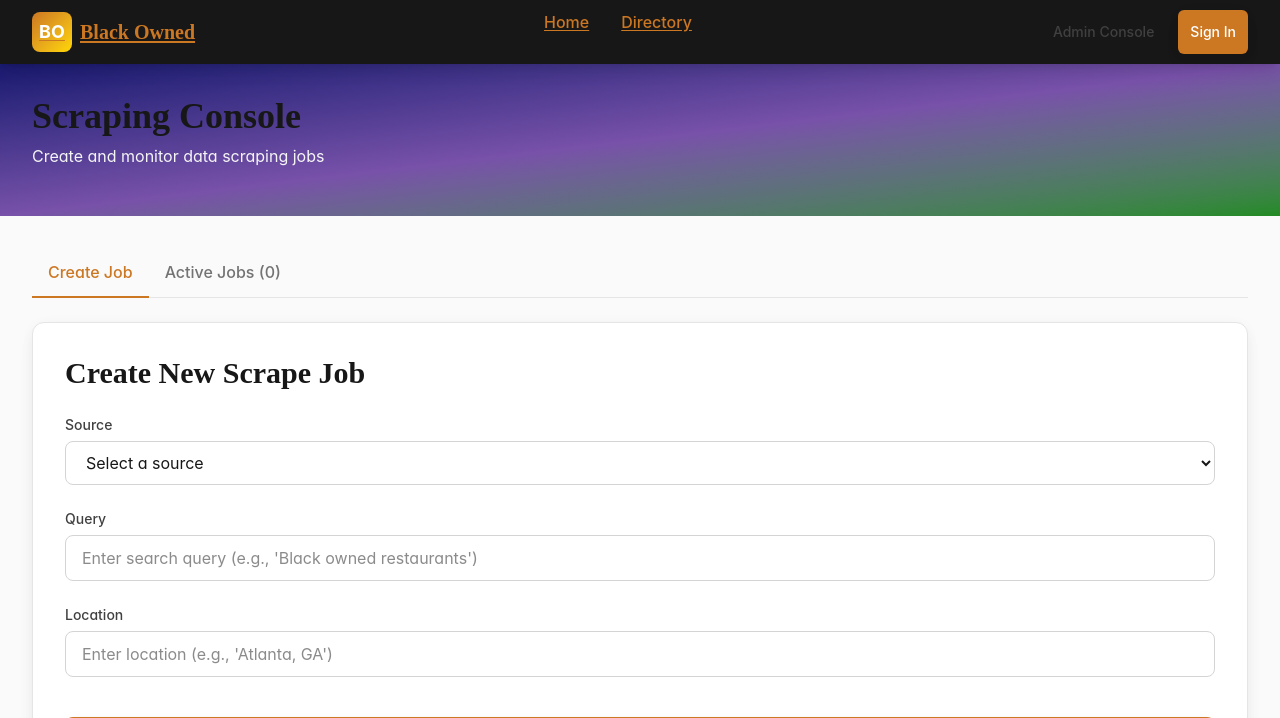
Test: ScrapeJobPage › shows location validation error when location is empty
Select "Google Maps" in the dropdown at {"x": 640, "y": 463}, box [65, 441, 1215, 485]
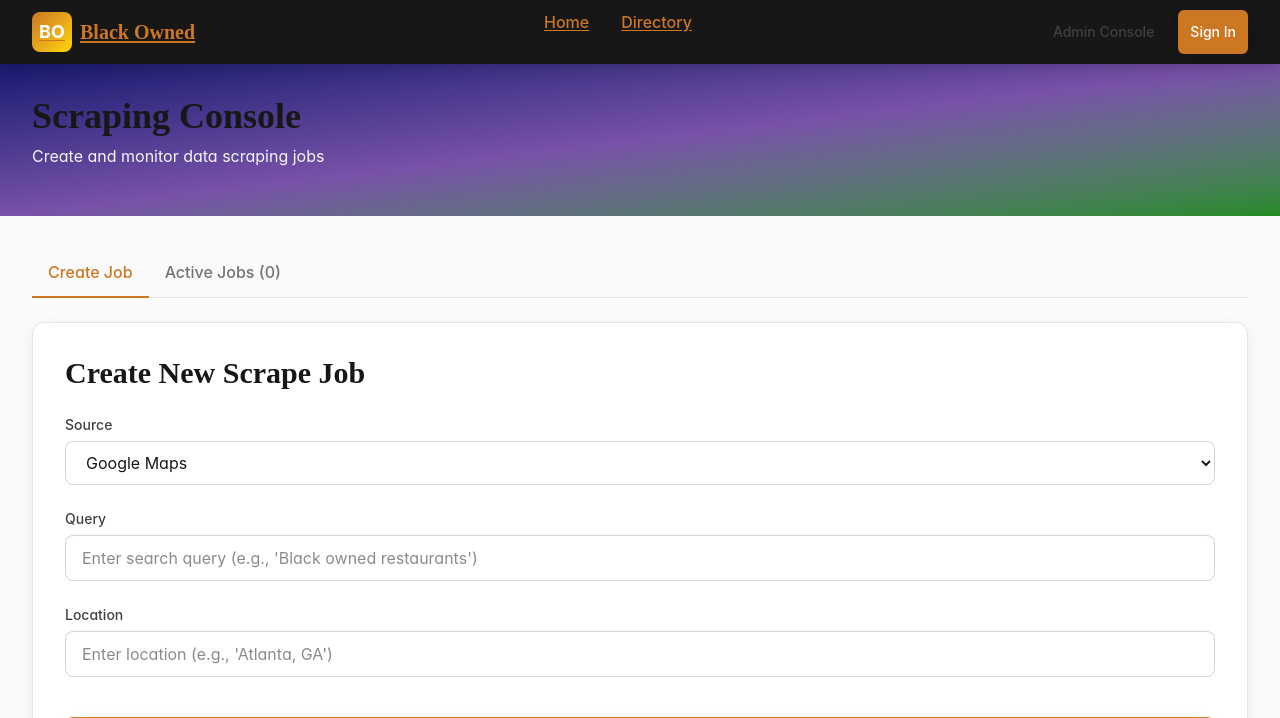
Type "test query" into the field with placeholder "Enter search query (e.g., 'Black owned restaurants')" at {"x": 640, "y": 558}, box [65, 535, 1215, 581]
(page scrolled)
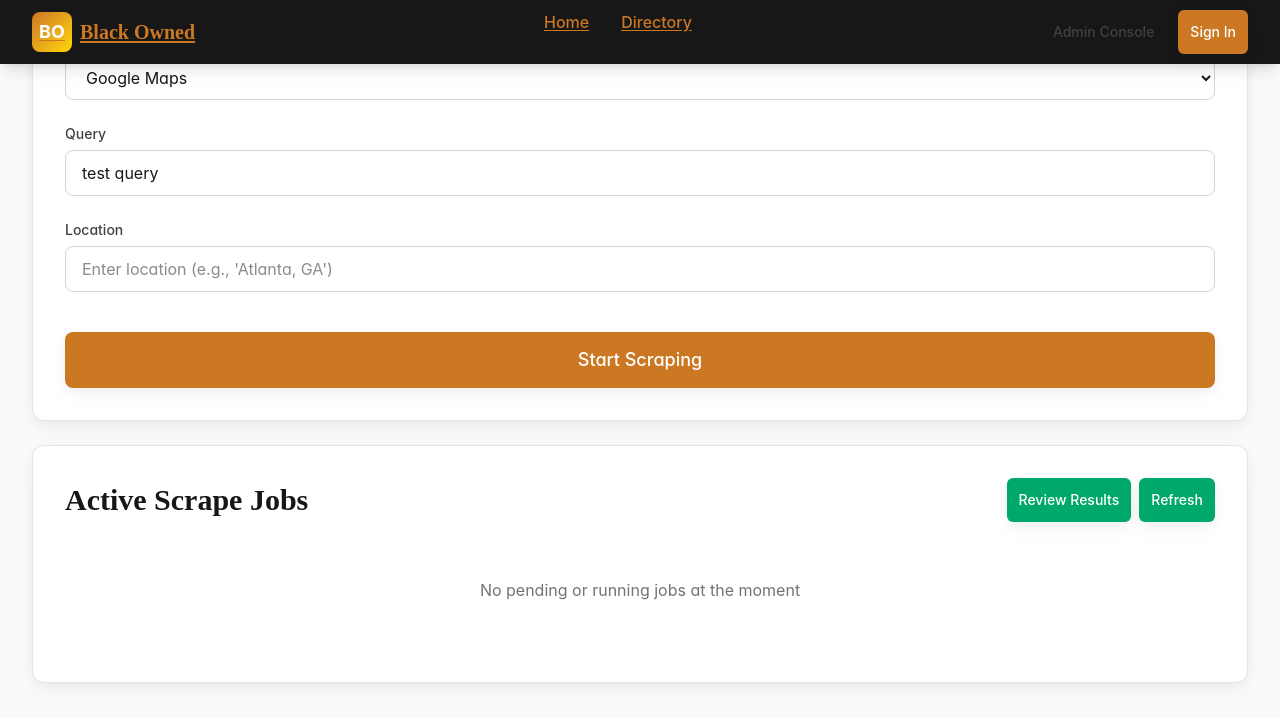
Click the button "Start Scraping" at {"x": 640, "y": 360}, box [65, 332, 1215, 388]
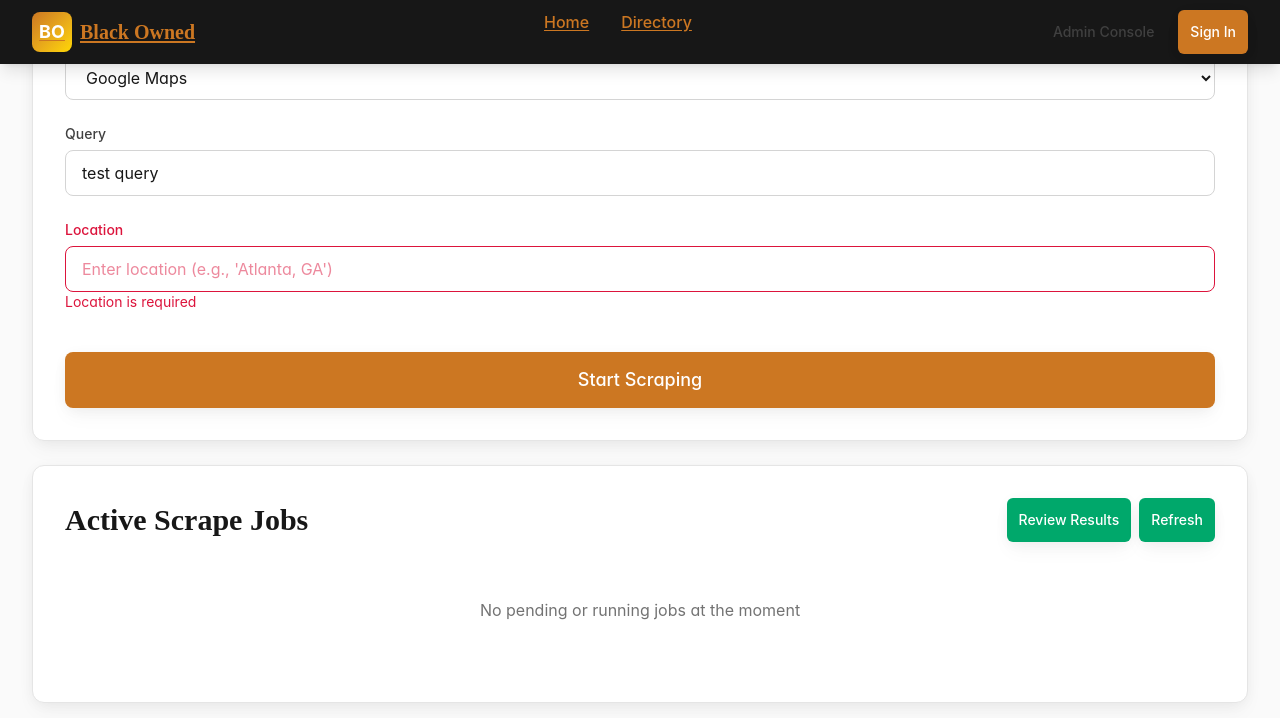
Expected: the text "Location is required" is shown, [65, 293, 196, 310]
